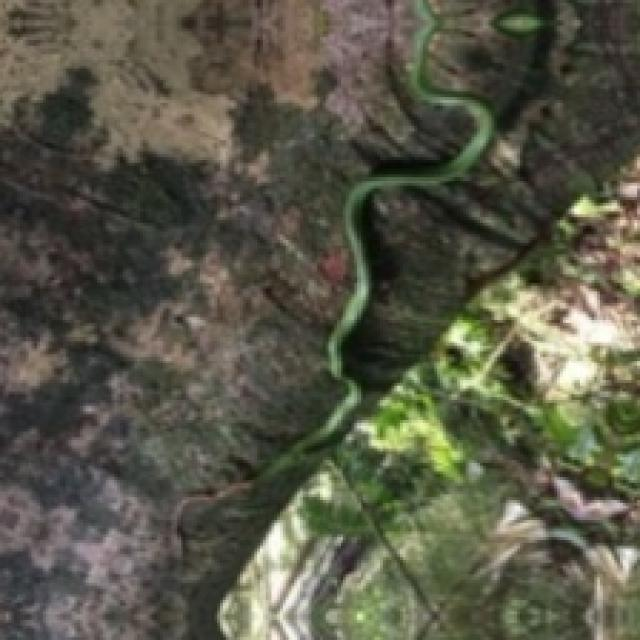red-tailed green ratsnake: (177, 0, 494, 637)
